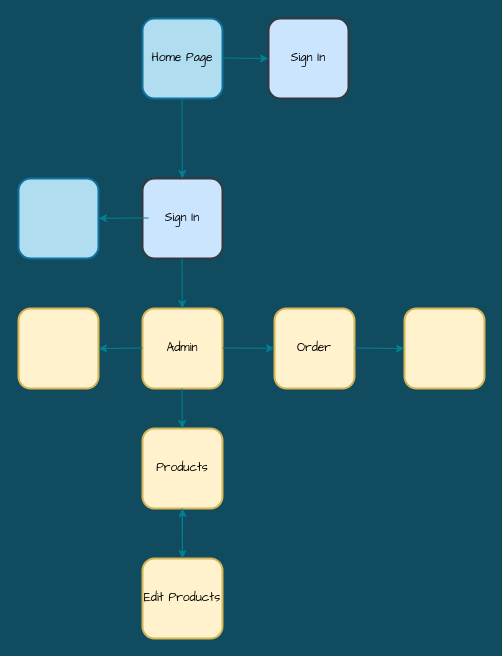
Image size: 502x656. Some labels were removed from this diagram. Each missing label, with the centre of its shape:
"Categories" belongs at (58,348).
"Order Details" belongs at (444,348).
"Profile" belongs at (58,218).
